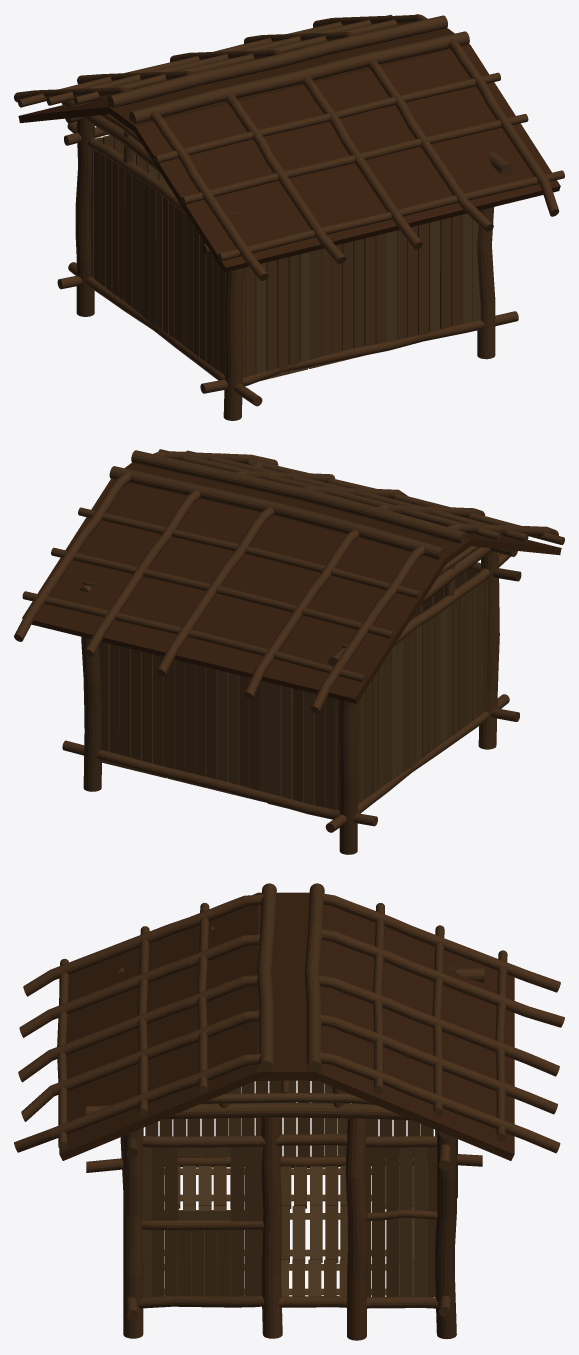
File: bahay_kubo.glb
3 renders of one model, top to bottom at view 1: azimuth 30°, elevation 25°; view 2: azimuth 150°, elevation 25°; view 3: azimuth 270°, elevation 25°, orthographic. The views are drawn at different scales.
Parts seen in each view (by area): view 1: bahay_kubo; view 2: bahay_kubo; view 3: bahay_kubo.
Boxes of the visible parts, bbox=[...] form: bahay_kubo: bbox=[14, 14, 564, 420]; bahay_kubo: bbox=[14, 449, 564, 854]; bahay_kubo: bbox=[14, 883, 564, 1340].
Bounding box in the file's own units: 4.72 × 3.58 × 6.
